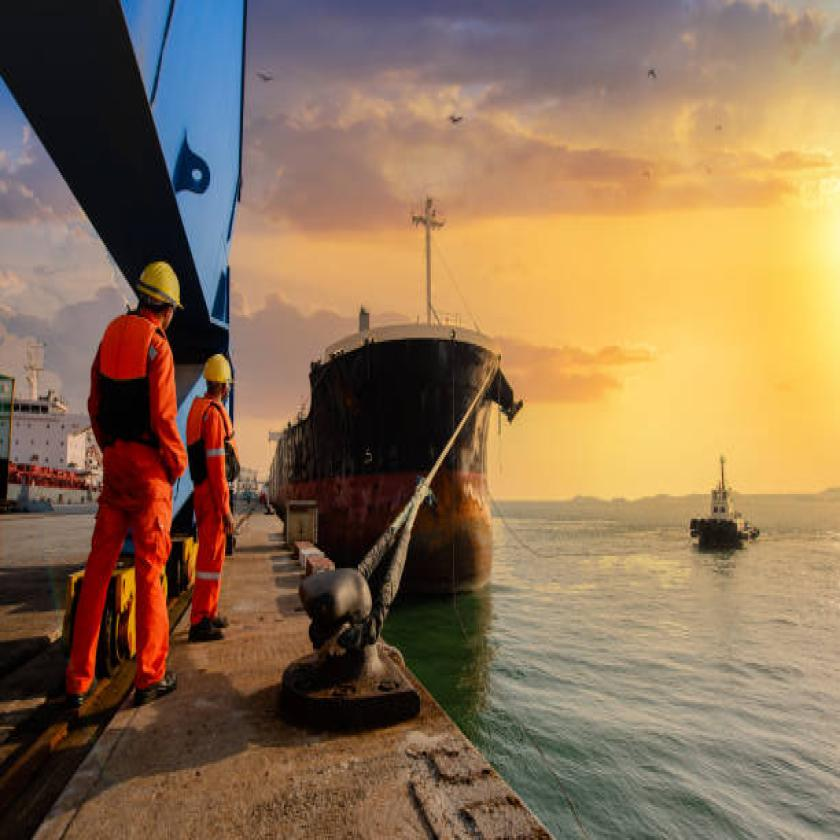Con_casco: (190, 330, 238, 433), (142, 260, 184, 357)
